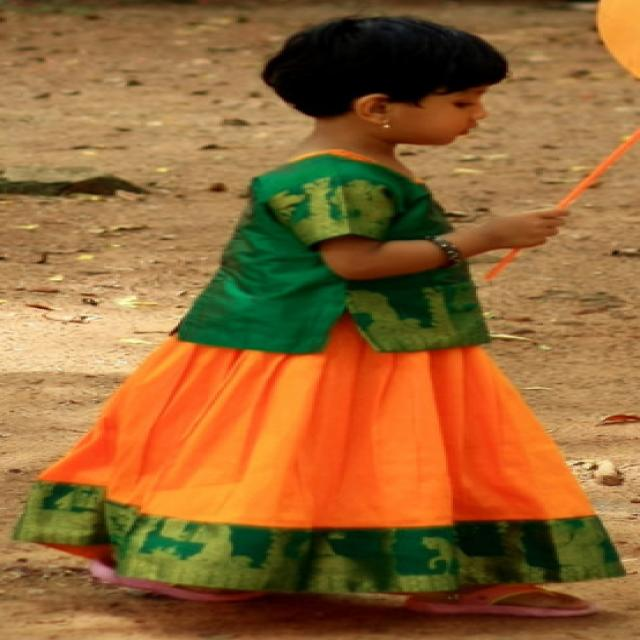standing: (9, 15, 638, 617)
